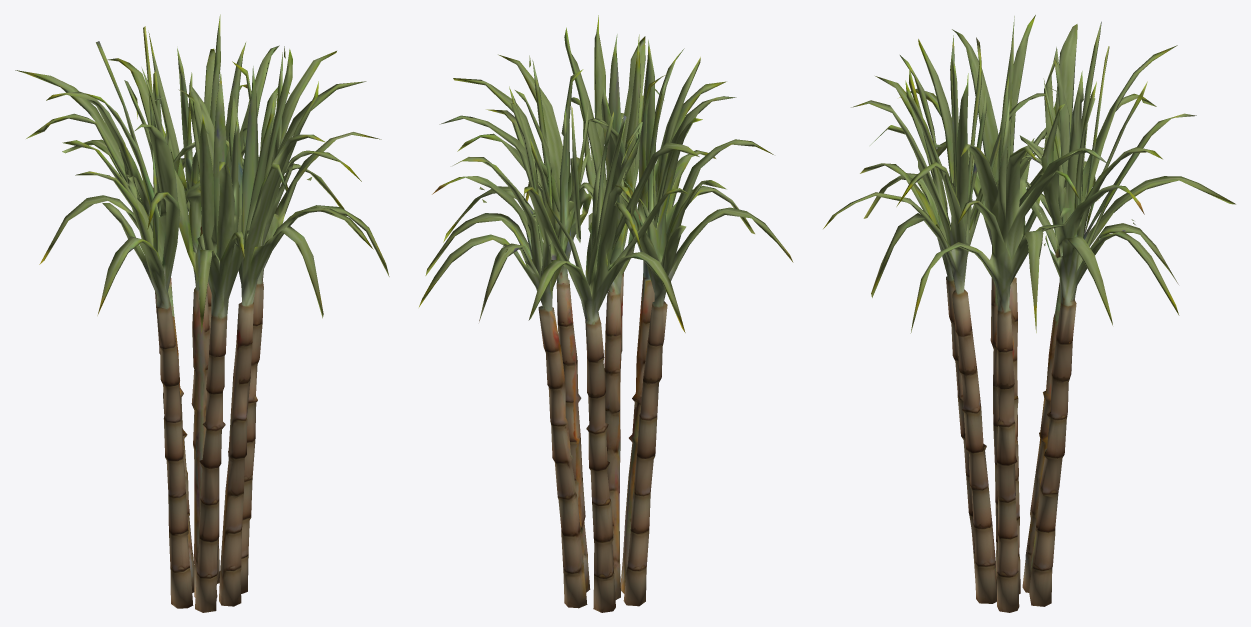
File: sugarcane3dmodel.fbx
3 views of the same model, side by side, from view 1: azimuth 30°, elevation 25°; view 2: azimuth 150°, elevation 25°; view 3: azimuth 270°, elevation 25° (orthographic). The views are drawn at different scales.
Visible parts, largest first — view 1: tripo_node_37277f00; view 2: tripo_node_37277f00; view 3: tripo_node_37277f00.
Part boxes in pixels (x1,y1,x2,y2): tripo_node_37277f00: [15, 14, 389, 612]; tripo_node_37277f00: [419, 15, 793, 612]; tripo_node_37277f00: [823, 15, 1235, 612].
Bounding box in the file's own units: 0.5769 × 1 × 0.6788.
Materials: 1 (1 with a texture image).
